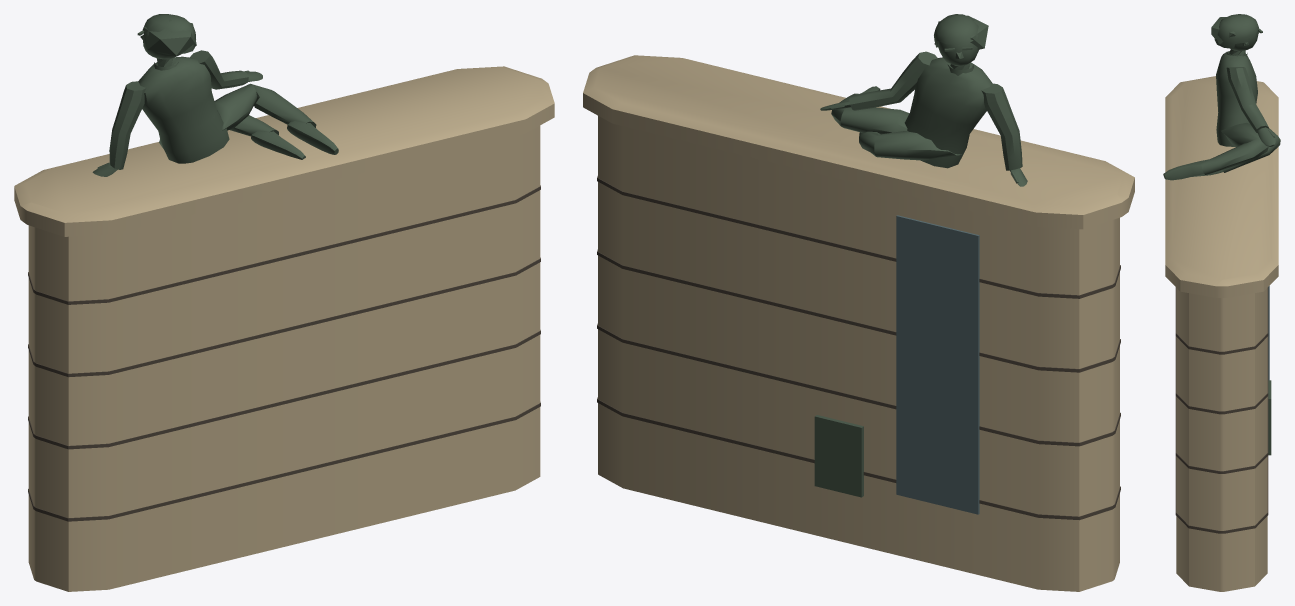
File: mon_kaestner.glb
3 renders of one model, left to right at view 1: azimuth 30°, elevation 25°; view 2: azimuth 150°, elevation 25°; view 3: azimuth 270°, elevation 25°, orthographic. The views are drawn at different scales.
Visible parts, largest first — view 1: mon_kaestner; view 2: mon_kaestner; view 3: mon_kaestner.
Boxes of the visible parts, <box> form: mon_kaestner: <box>14,14,554,591</box>; mon_kaestner: <box>583,14,1134,591</box>; mon_kaestner: <box>1163,14,1280,591</box>.
Size of the model in its own units: 2.72 by 2.6 by 0.6419.
